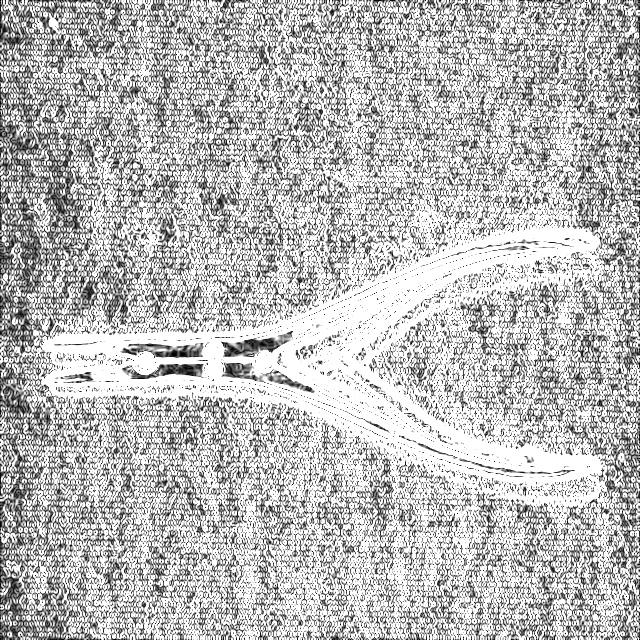gubia: (43, 228, 605, 506)
